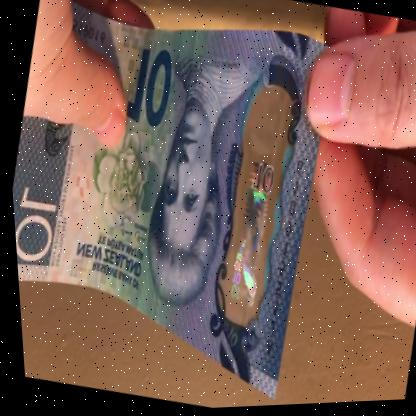10B: (208, 105, 295, 320)
